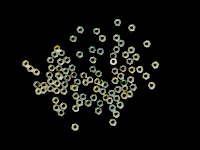nut: (152, 61, 160, 69), (148, 82, 156, 90), (143, 72, 151, 80), (128, 46, 136, 54), (128, 24, 136, 32), (127, 76, 135, 84), (110, 58, 118, 66), (114, 86, 122, 94), (117, 101, 125, 109), (109, 104, 117, 112), (89, 56, 97, 64), (93, 27, 101, 35), (72, 105, 80, 113), (70, 71, 78, 79), (64, 74, 72, 82), (52, 97, 60, 105), (57, 58, 65, 66), (46, 85, 54, 93), (33, 81, 41, 89), (35, 88, 43, 96), (33, 68, 41, 76), (27, 65, 35, 73), (22, 60, 30, 68), (72, 123, 79, 132), (144, 40, 151, 48), (136, 66, 144, 73), (133, 53, 140, 61), (129, 66, 136, 74), (123, 51, 130, 59), (130, 84, 138, 91), (126, 91, 134, 98), (120, 65, 127, 73), (121, 79, 128, 87), (118, 39, 125, 47), (113, 34, 120, 42), (114, 19, 122, 26), (113, 46, 121, 53), (113, 95, 121, 102), (109, 119, 117, 126), (107, 97, 114, 105), (108, 90, 116, 97), (103, 94, 110, 102), (100, 88, 107, 96), (102, 81, 109, 89), (97, 100, 104, 108), (95, 107, 102, 115), (98, 79, 105, 87), (90, 95, 98, 102), (95, 70, 103, 77), (89, 66, 97, 73), (99, 34, 106, 42), (87, 76, 94, 84), (82, 79, 90, 86), (80, 93, 87, 101), (70, 35, 77, 43), (77, 26, 84, 34), (77, 99, 84, 107), (72, 93, 80, 100), (74, 78, 81, 86), (72, 84, 79, 92), (69, 64, 76, 72), (64, 56, 71, 64), (62, 68, 70, 75), (61, 81, 69, 88), (60, 88, 68, 95), (60, 103, 68, 110), (58, 109, 65, 117), (54, 45, 61, 53), (47, 57, 55, 64), (55, 72, 63, 79), (48, 65, 56, 72), (53, 87, 60, 95), (46, 72, 54, 79), (127, 58, 134, 65), (118, 73, 125, 80), (121, 93, 128, 100), (110, 52, 117, 59), (112, 68, 119, 75), (112, 78, 119, 85), (113, 111, 120, 118), (94, 86, 101, 93), (85, 100, 92, 107), (97, 48, 104, 55), (89, 46, 96, 53), (81, 72, 88, 79), (77, 51, 84, 58), (70, 84, 77, 91), (53, 105, 60, 112), (56, 65, 63, 72), (51, 51, 58, 58), (57, 74, 64, 81), (54, 80, 61, 87), (47, 78, 54, 85), (41, 82, 48, 89), (59, 49, 65, 57), (122, 86, 129, 92), (95, 78, 101, 85), (41, 88, 47, 94)
